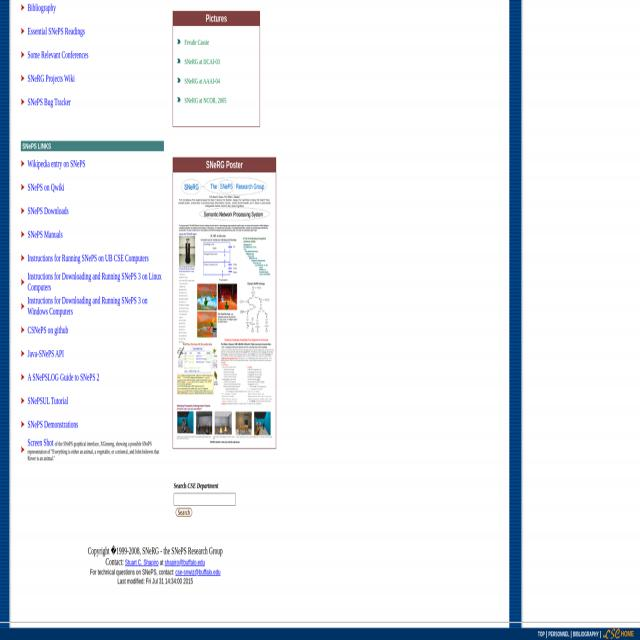button: (174, 174, 275, 446), (174, 508, 192, 516)
field: (174, 493, 236, 506)
